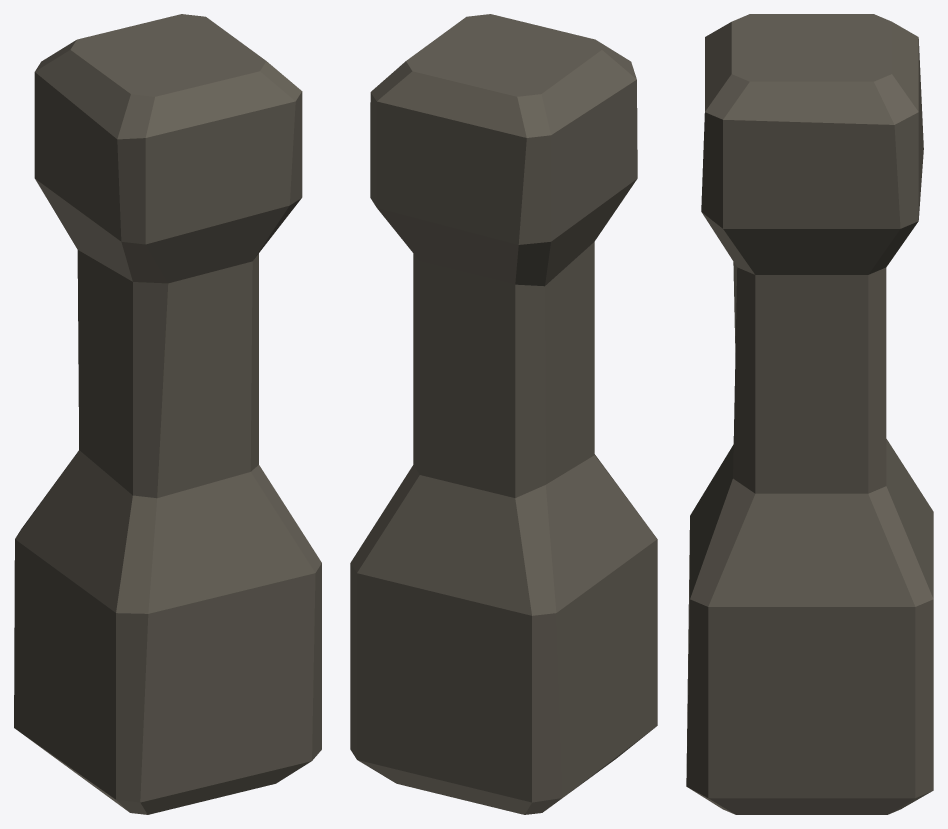
The model's file is city_SM_Env_Railing_01_Pillar.gltf.
3 views of the same model, side by side, from view 1: azimuth 30°, elevation 25°; view 2: azimuth 150°, elevation 25°; view 3: azimuth 270°, elevation 25° (orthographic). The views are drawn at different scales.
Parts seen in each view (by area): view 1: SM_Env_Railing_01_Pillar; view 2: SM_Env_Railing_01_Pillar; view 3: SM_Env_Railing_01_Pillar.
Part boxes in pixels (left/top/right/bottom): SM_Env_Railing_01_Pillar: left=14, top=14, right=321, bottom=814; SM_Env_Railing_01_Pillar: left=350, top=14, right=657, bottom=814; SM_Env_Railing_01_Pillar: left=686, top=14, right=933, bottom=814.
Bounding box in the file's own units: 0.4016 × 1.3 × 0.4005.
1 material, 1 textured.
